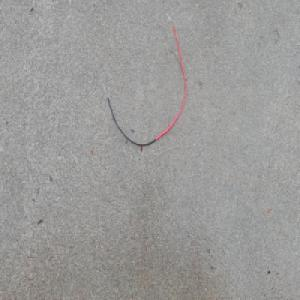Wire: (100, 9, 187, 147)
